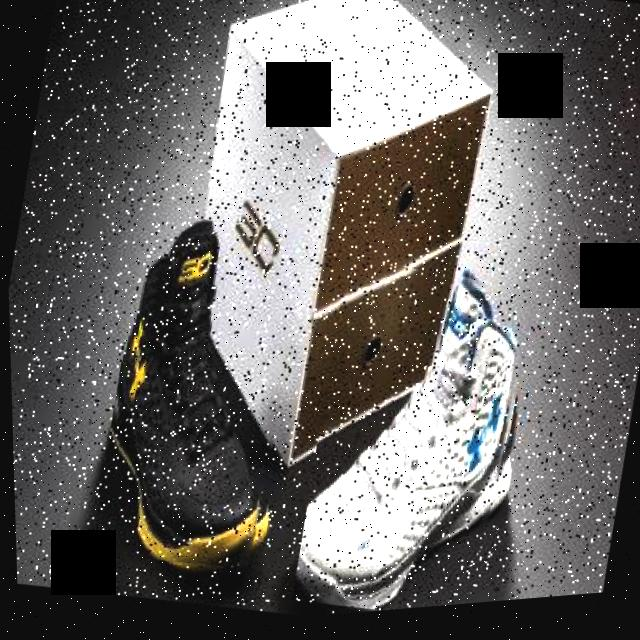shoe: (280, 251, 546, 623), (79, 205, 321, 589)
